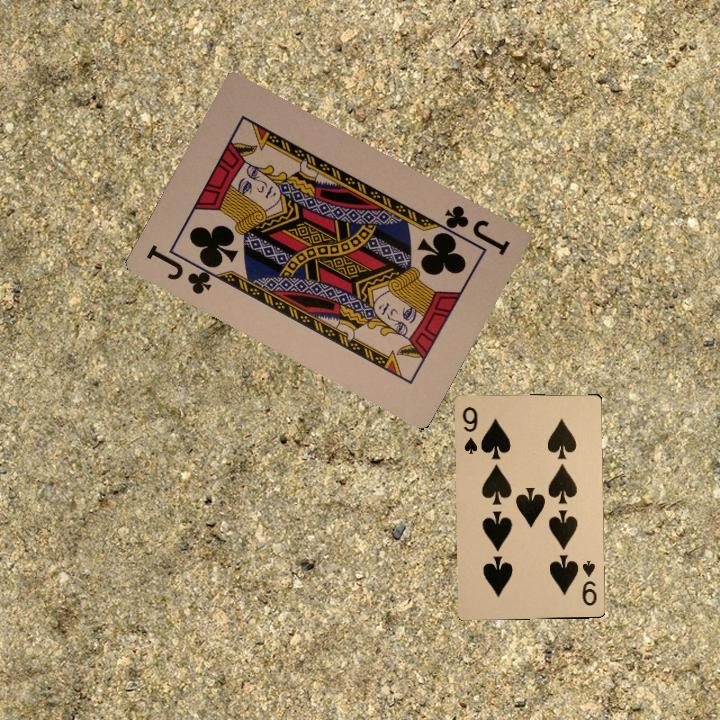9s: (458, 403, 480, 456), (578, 556, 599, 608)
Jc: (431, 201, 513, 258), (142, 240, 222, 298)
